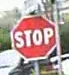stop: (10, 14, 57, 59)
